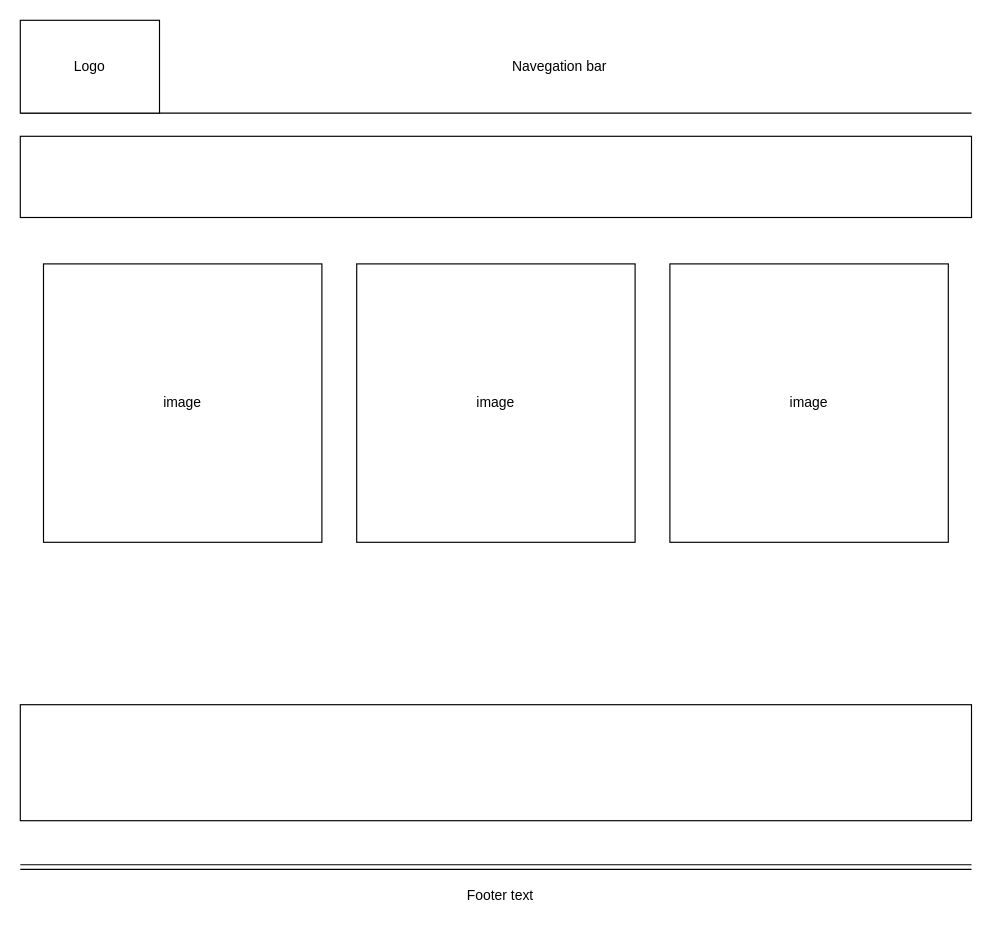
The diagram is 993 pixels wide and 934 high, and some of its shapes have lost their labels. The centre of each missing label's shape, as x and y in pixels:
"Call to action" belongs at (x=495, y=176).
"table" belongs at (x=495, y=762).
